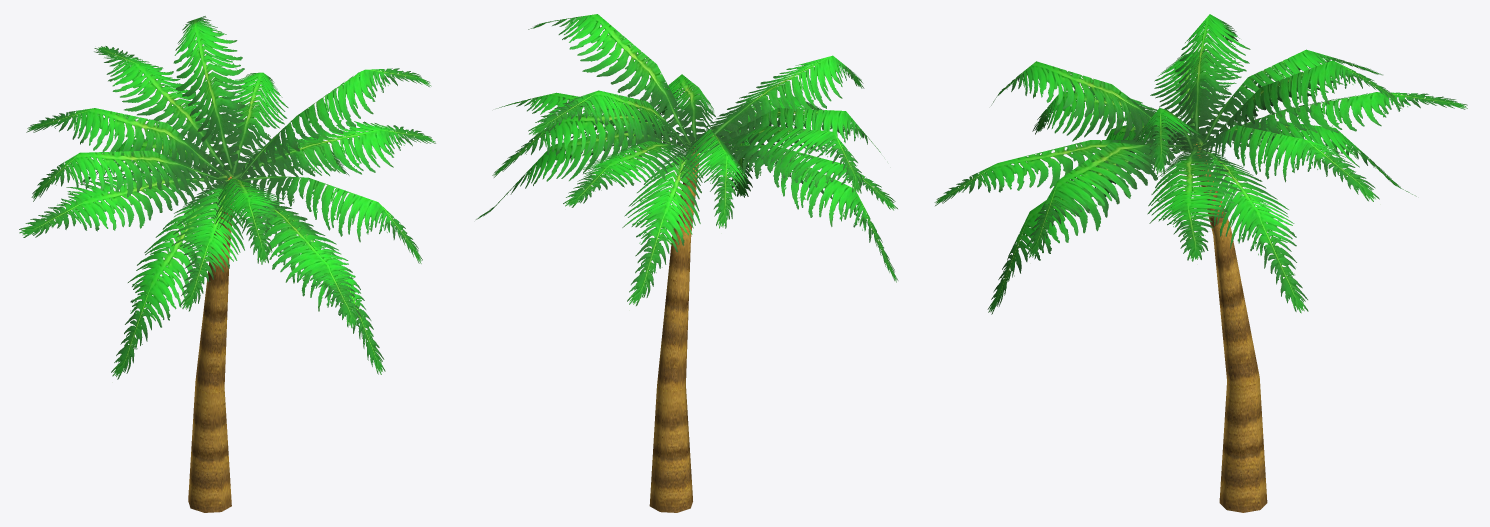
The model's file is palm-01.gltf.
The picture shows the model from 3 angles, left to right: view 1: azimuth 30°, elevation 25°; view 2: azimuth 150°, elevation 25°; view 3: azimuth 270°, elevation 25°; orthographic projection. The views are drawn at different scales.
Visible parts, largest first — view 1: palm01; view 2: palm01; view 3: palm01.
Part boxes in pixels (bbox=[...]): palm01: bbox=[19, 16, 435, 512]; palm01: bbox=[476, 14, 898, 512]; palm01: bbox=[934, 14, 1467, 512].
Bounding box in the file's own units: 79.04 × 79.32 × 85.79.
Materials: 2 (2 with a texture image).
